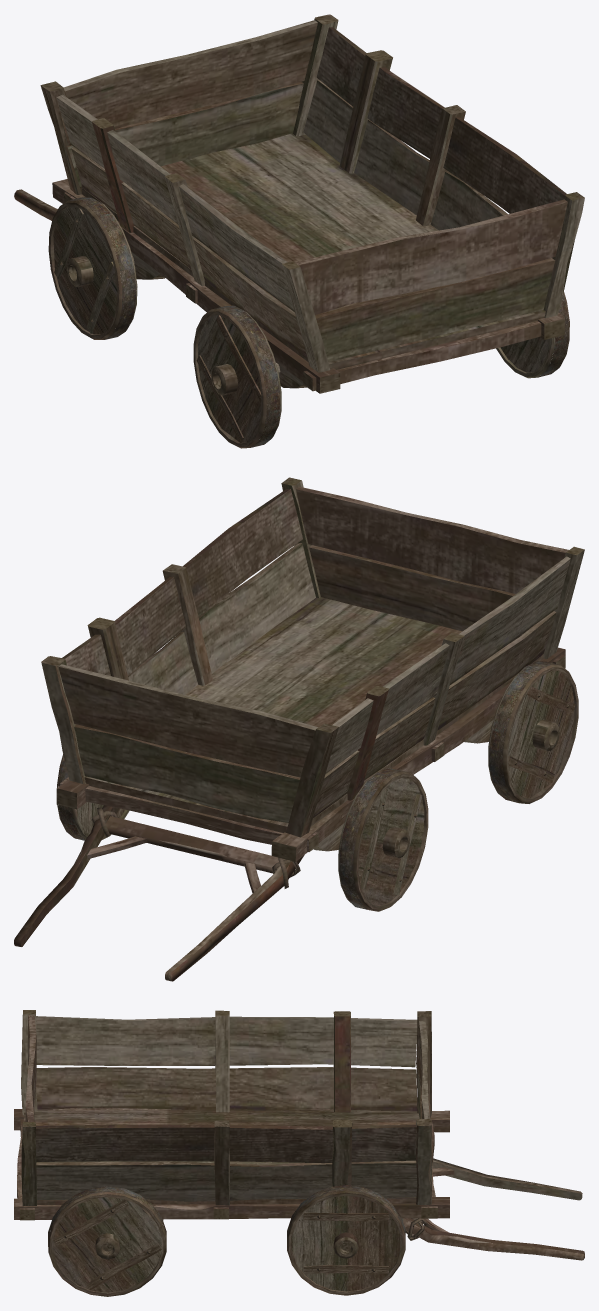
File: GEN_PRO_Cart_Empty_01A_LOD0-transformed.glb
3 renders of one model, top to bottom at view 1: azimuth 30°, elevation 25°; view 2: azimuth 150°, elevation 25°; view 3: azimuth 270°, elevation 25°, orthographic. The views are drawn at different scales.
Visible parts, largest first — view 1: default; view 2: default; view 3: default.
Part boxes in pixels (left/top/right/bottom): default: left=14, top=14, right=584, bottom=448; default: left=14, top=477, right=584, bottom=981; default: left=14, top=1010, right=584, bottom=1296.
Size of the model in its own units: 2.45 by 1.5 by 4.54.
3 materials, 3 textured.
